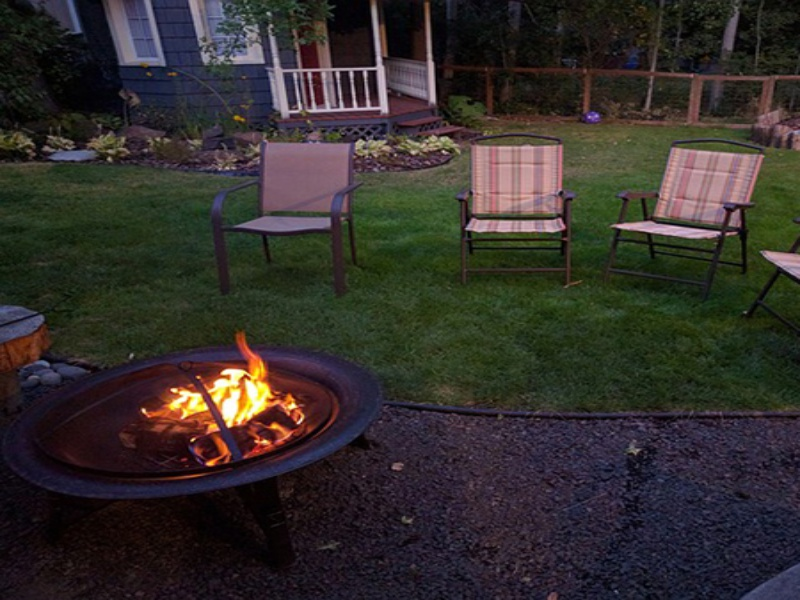fire: (158, 373, 275, 410), (238, 333, 257, 369)
